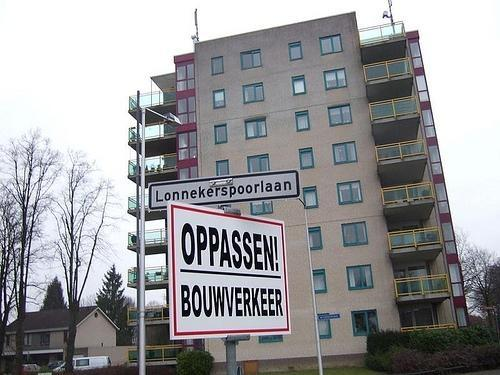car: (22, 362, 40, 375), (41, 360, 64, 368)
truck: (53, 356, 110, 372)
